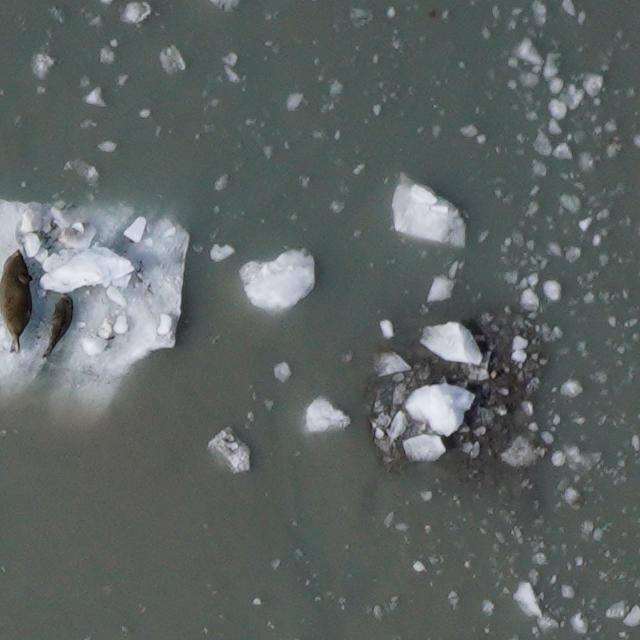seal: (33, 290, 83, 365), (0, 248, 34, 355)
